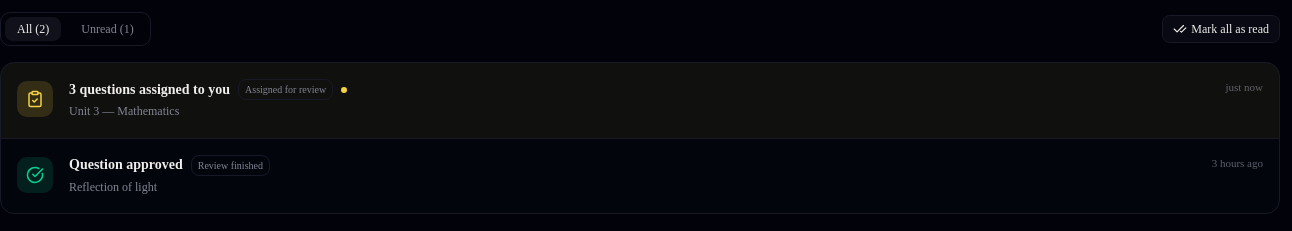
NotificationsClient › filters down to unread items only
Step 1. Click the button "Unread (1)" → {"x": 107, "y": 29}, box [69,17,146,41]
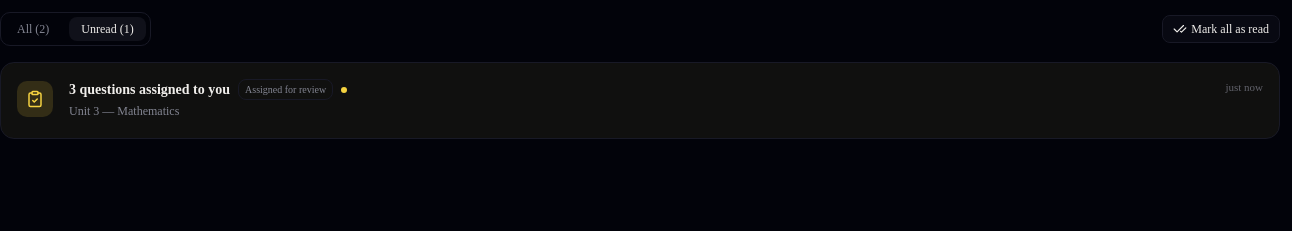
Expected: the text "3 questions assigned to you" is shown, [69,80,230,100]
Now the text "Question approved" is gone
Step 2. Click the button "All (2)" → {"x": 33, "y": 29}, box [5,17,61,41]
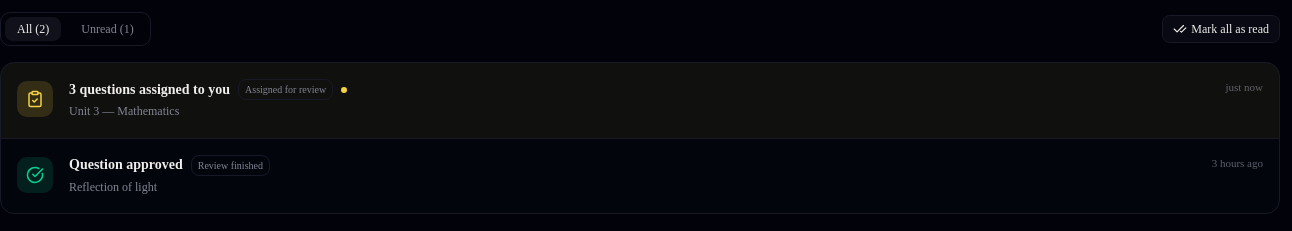
Now the text "Question approved" is shown, box [69,155,183,175]
